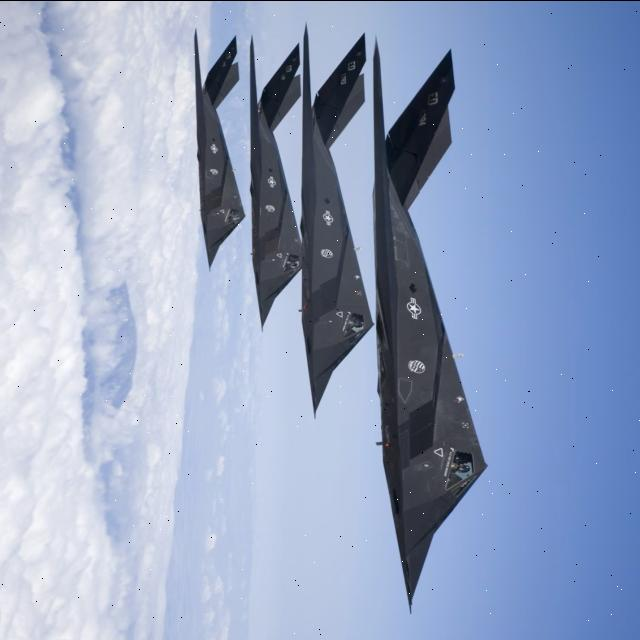F117: (348, 43, 536, 632), (291, 22, 389, 440), (237, 18, 335, 338), (185, 26, 268, 272)
